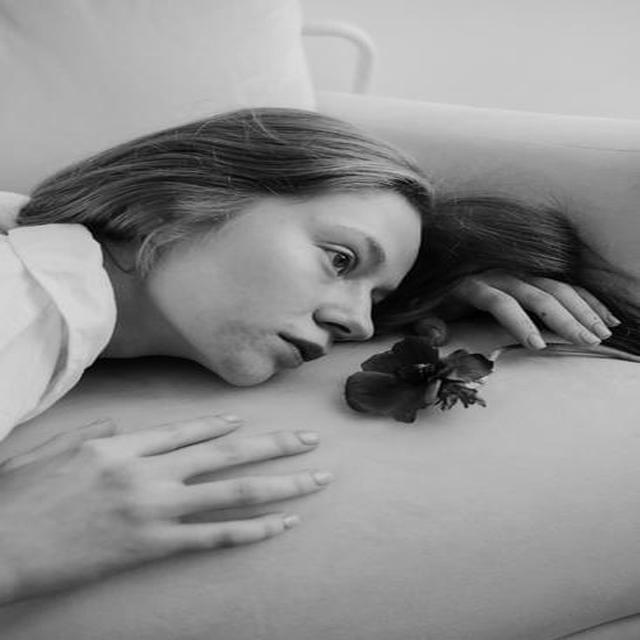Sadness: (157, 193, 419, 385)
